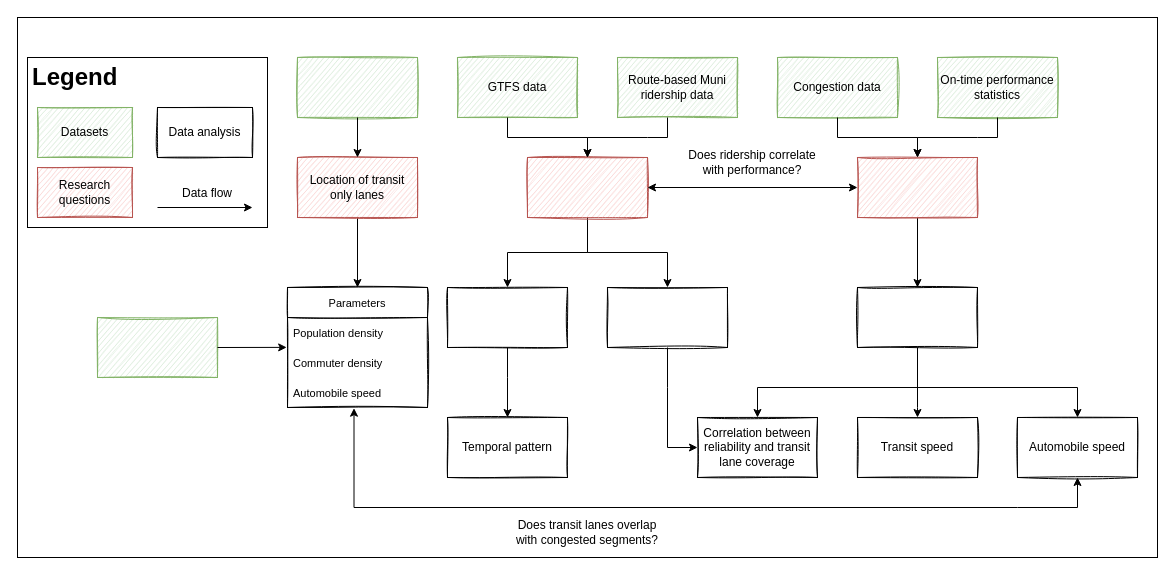
Some shapes in this 1175 by 575 pixel diagram are drawn without their labels. The centre of each missing label's shape, as x and y in pixels:
American community survey: (x=157, y=347)
Correlation with transit only lanes: (x=507, y=317)
Newly added lanes and change in ridership: (x=667, y=317)
Overall bus performance deteriorates: (x=917, y=317)
Transit only lanes: (x=357, y=87)
Transit only lanes and on-time performance: (x=917, y=187)
Transit only lanes and ridership: (x=587, y=187)
